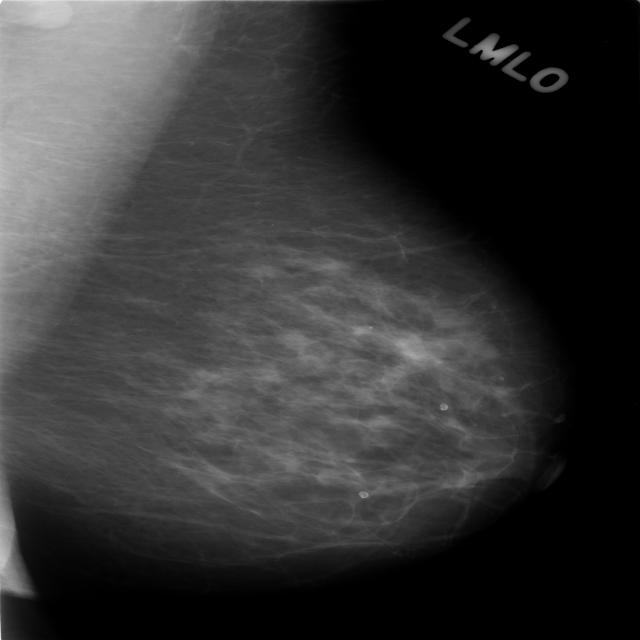normal: (0, 1, 551, 579)
